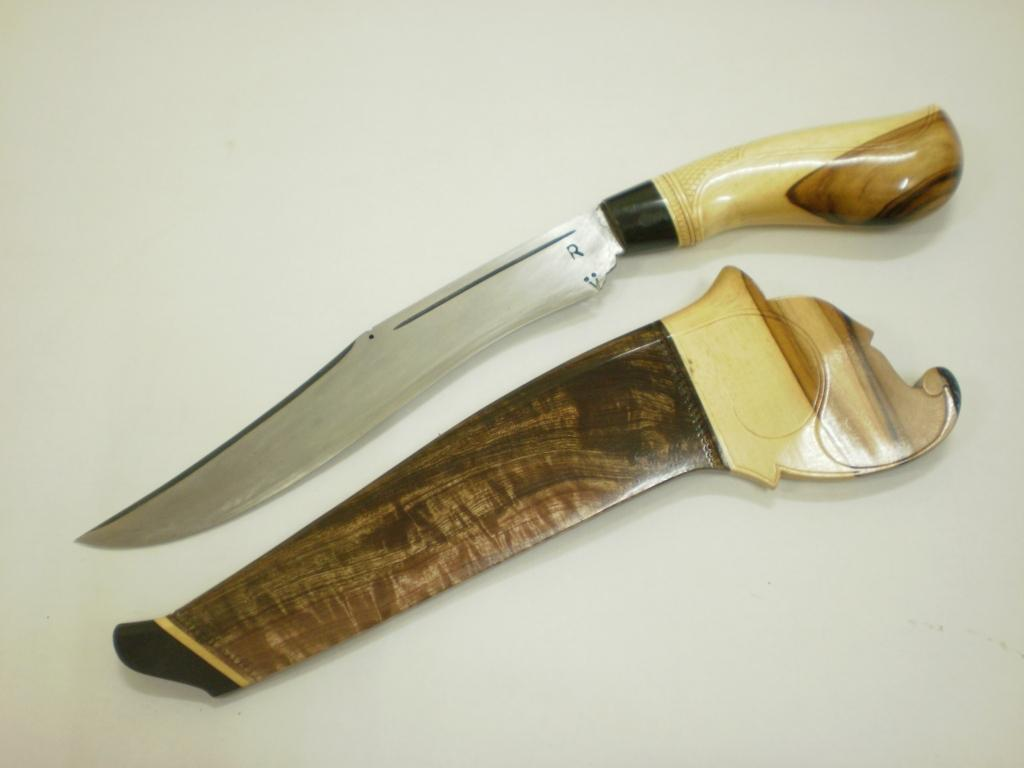facao: (79, 106, 962, 546)
